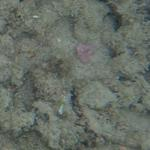dead: (6, 4, 139, 142)
